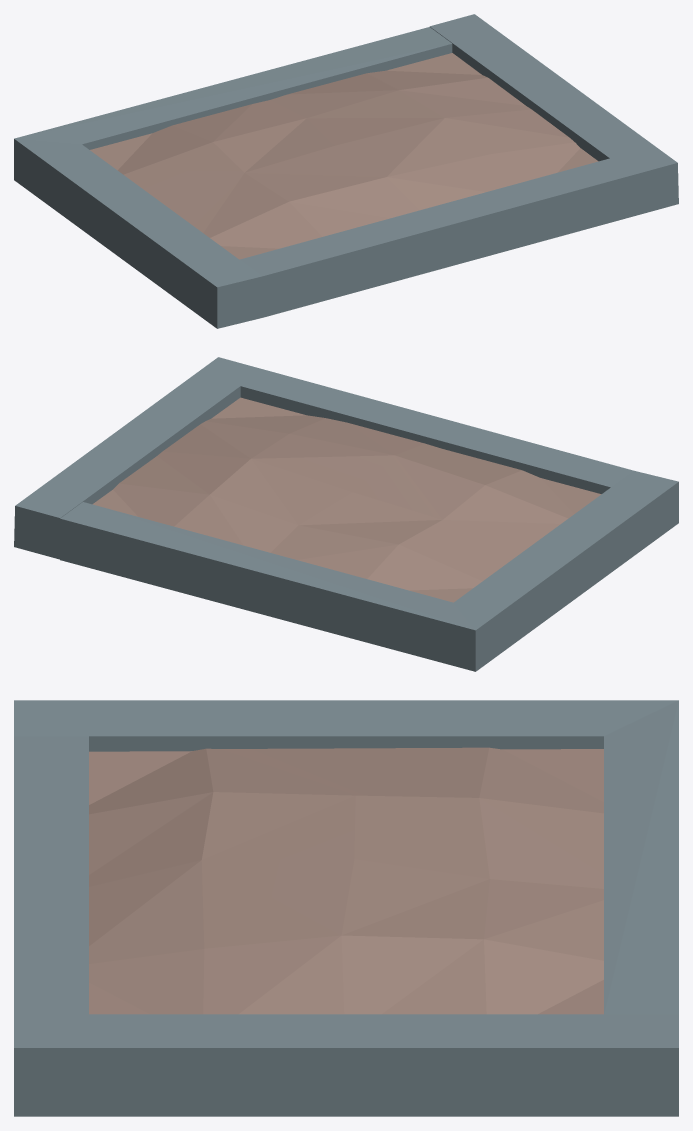
Rendered from ErdFoundation.fbx.
3 renders of one model, top to bottom at view 1: azimuth 30°, elevation 25°; view 2: azimuth 150°, elevation 25°; view 3: azimuth 270°, elevation 25°, orthographic. The views are drawn at different scales.
Parts seen in each view (by area): view 1: mesh_1483305596; view 2: mesh_1483305596; view 3: mesh_1483305596.
Part boxes in pixels (x1=…): mesh_1483305596: x1=14, y1=14, x2=678, y2=328; mesh_1483305596: x1=14, y1=357, x2=678, y2=671; mesh_1483305596: x1=14, y1=700, x2=678, y2=1116.
Bounding box in the file's own units: 93.13 × 12.98 × 71.
